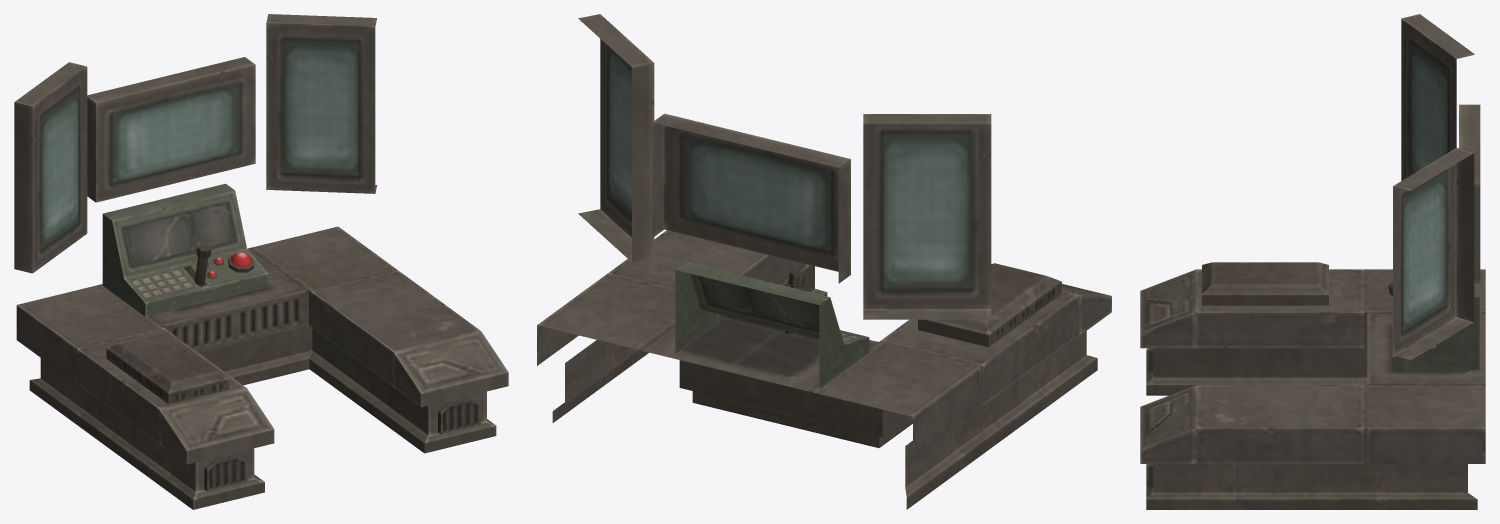
Rendered from machine_3.FBX.
The picture shows the model from 3 angles, left to right: view 1: azimuth 30°, elevation 25°; view 2: azimuth 150°, elevation 25°; view 3: azimuth 270°, elevation 25°; orthographic projection. The views are drawn at different scales.
Parts seen in each view (by area): view 1: machine_3; view 2: machine_3; view 3: machine_3.
Part boxes in pixels (x1=…): machine_3: x1=14, y1=14, x2=508, y2=509; machine_3: x1=537, y1=14, x2=1111, y2=509; machine_3: x1=1140, y1=14, x2=1485, y2=509.
Size of the model in its own units: 69.55 by 59.32 by 57.27.
